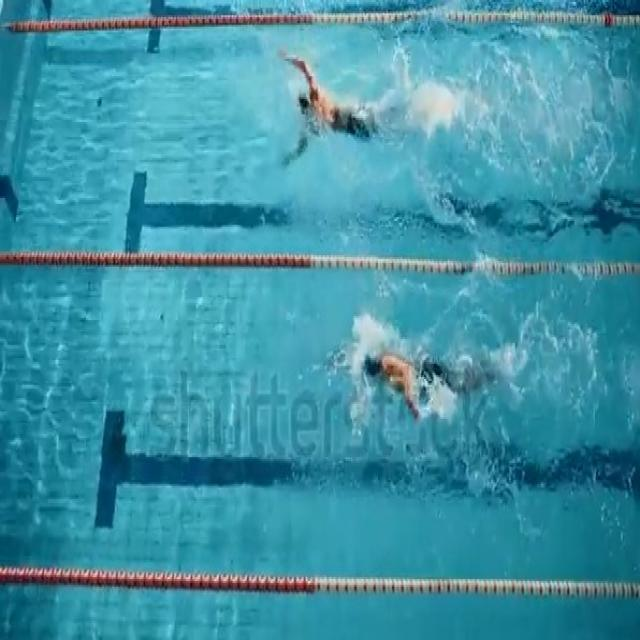swimming: (316, 322, 545, 422), (254, 47, 417, 164)
